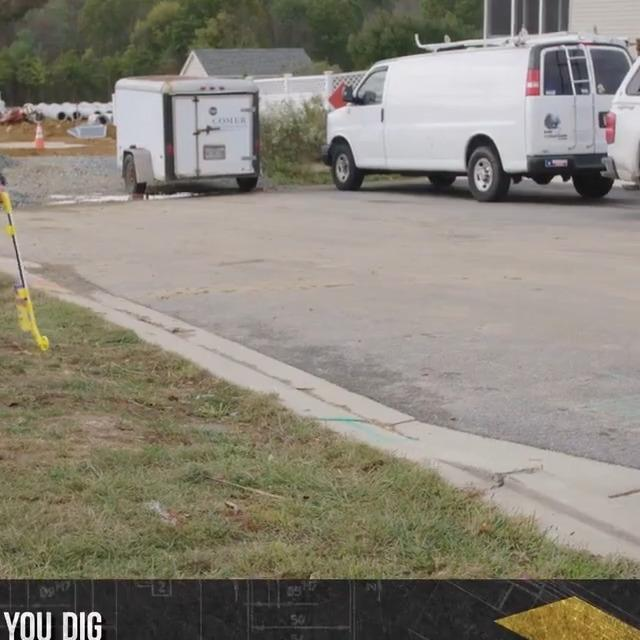Safety Cone: (34, 120, 46, 150)
trailer: (112, 72, 262, 193)
van: (321, 31, 634, 205)
